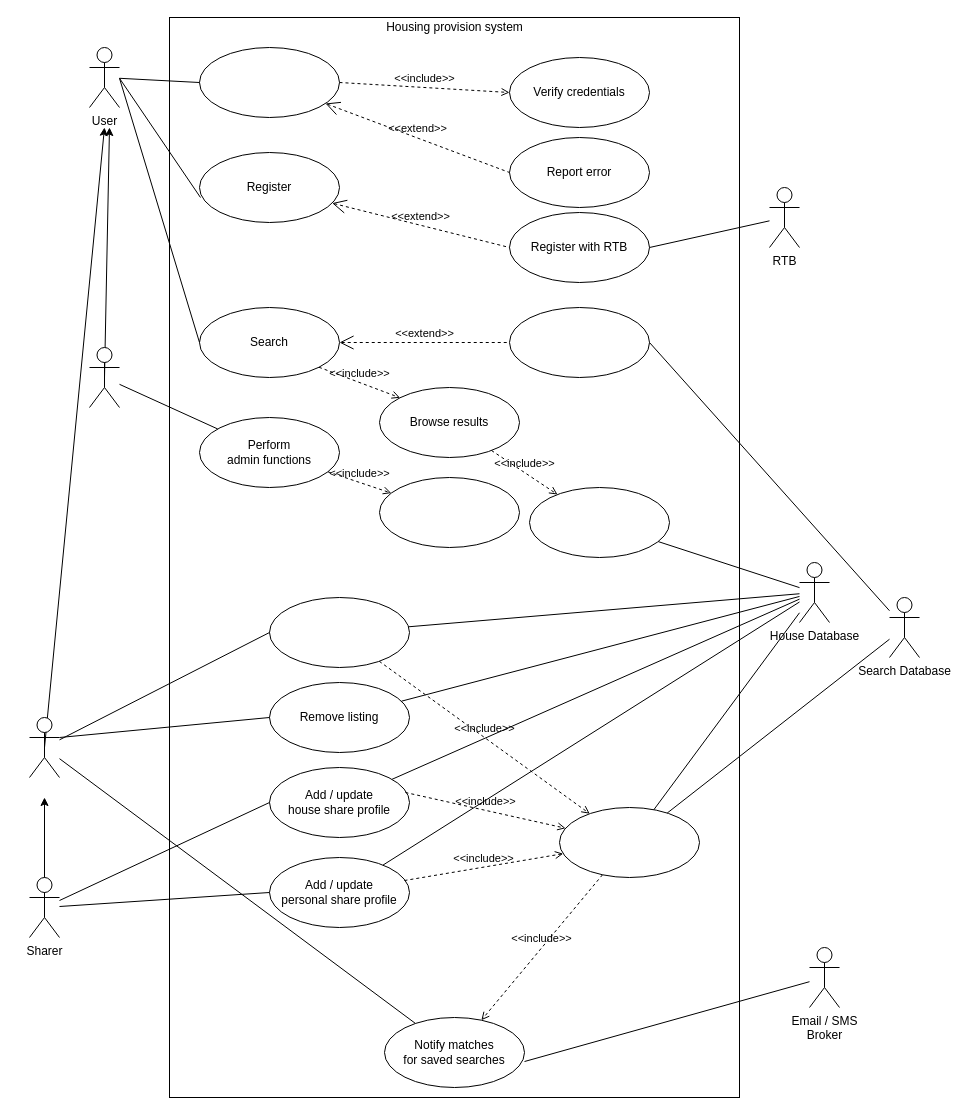
Image size: 968x1115. Some labels were removed from this diagram. The shapes that lost their labels are listed below. From the top down, each one's box as (x1, y1, x2, y2) in pixels, then its label:
(198, 46, 340, 118): Log in
(508, 306, 650, 378): Save search
(88, 346, 120, 408): Site Admin
(378, 476, 520, 548): Verify credentials / multi-factor auth
(528, 486, 670, 558): Perform search
(268, 596, 410, 668): Add / update listing {photos, price/rent}
(28, 716, 60, 778): Advertiser
(558, 806, 700, 878): Perform saved searches
